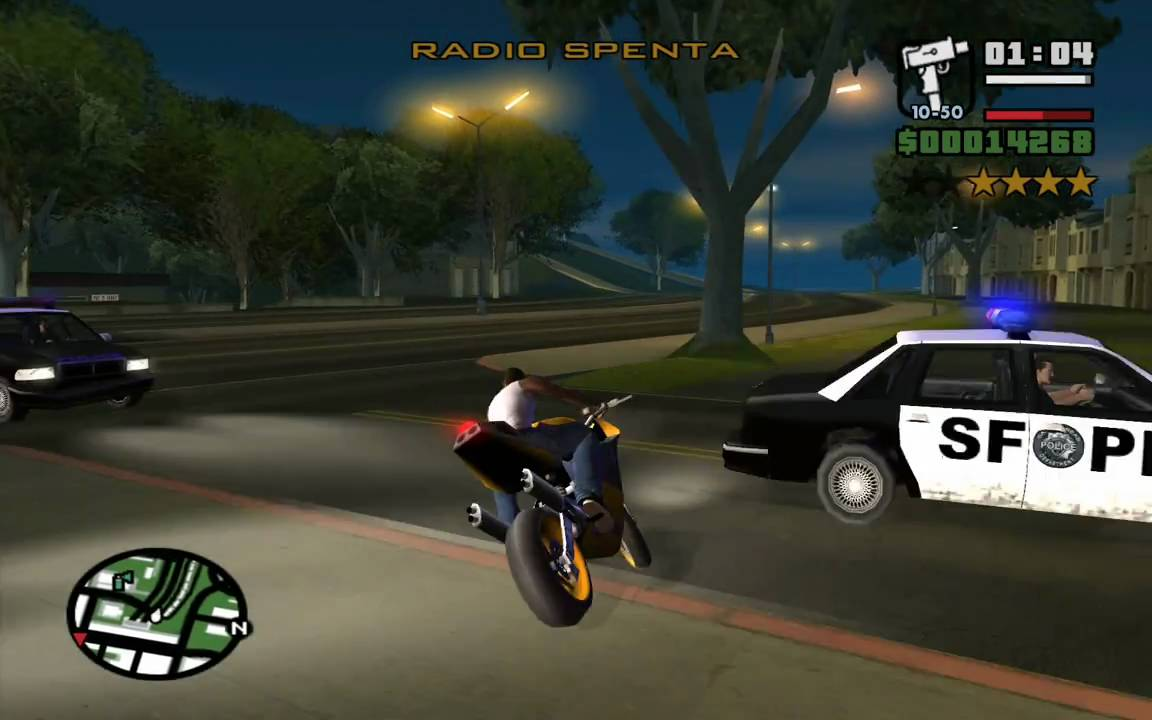bike: (445, 389, 647, 608)
car: (730, 327, 1152, 544), (1, 299, 157, 418)
